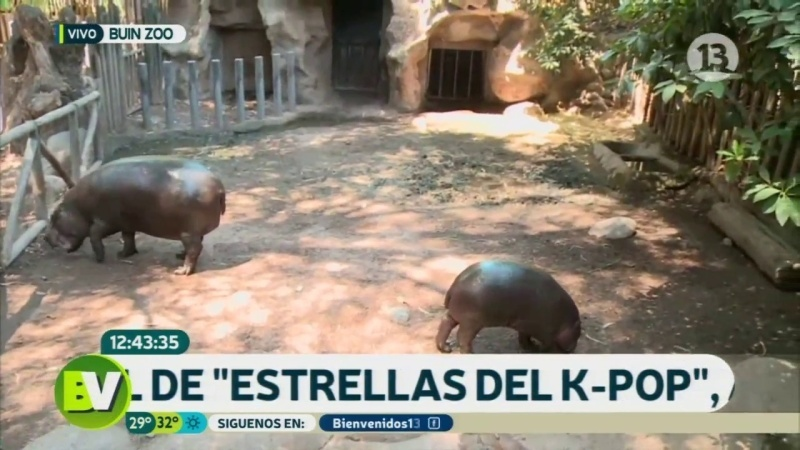hipopotamo: (38, 150, 236, 288), (421, 248, 595, 354)
